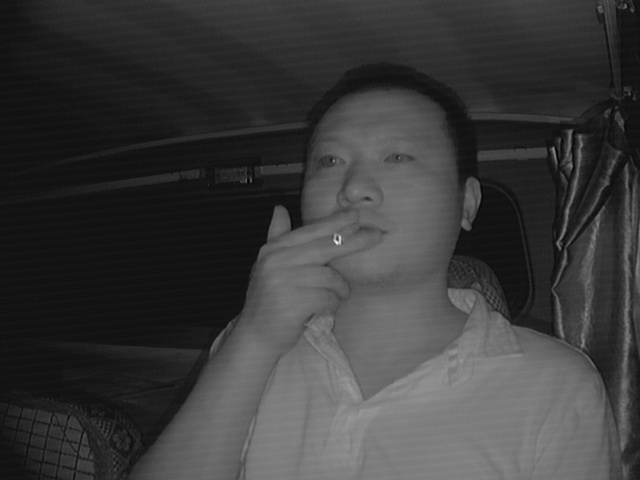hand: (274, 205, 378, 316)
